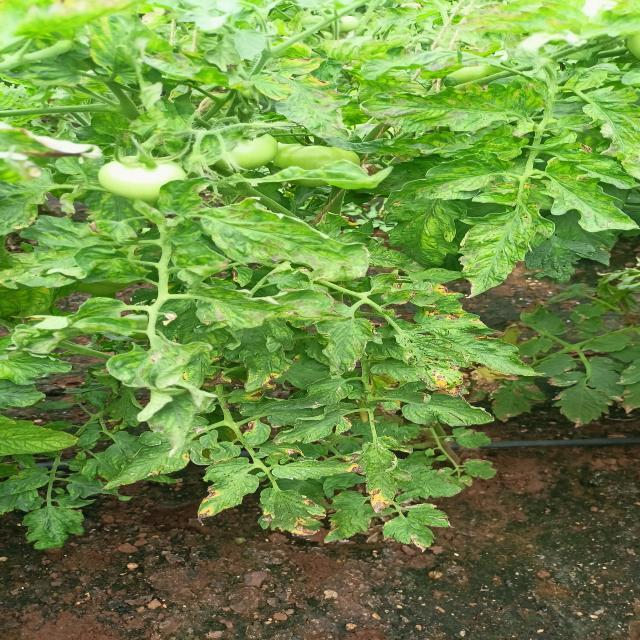Tomato mosaic virus leaf: (404, 309, 550, 397), (191, 454, 263, 526), (254, 487, 330, 542), (379, 281, 474, 310), (265, 457, 362, 481), (237, 420, 277, 450)
